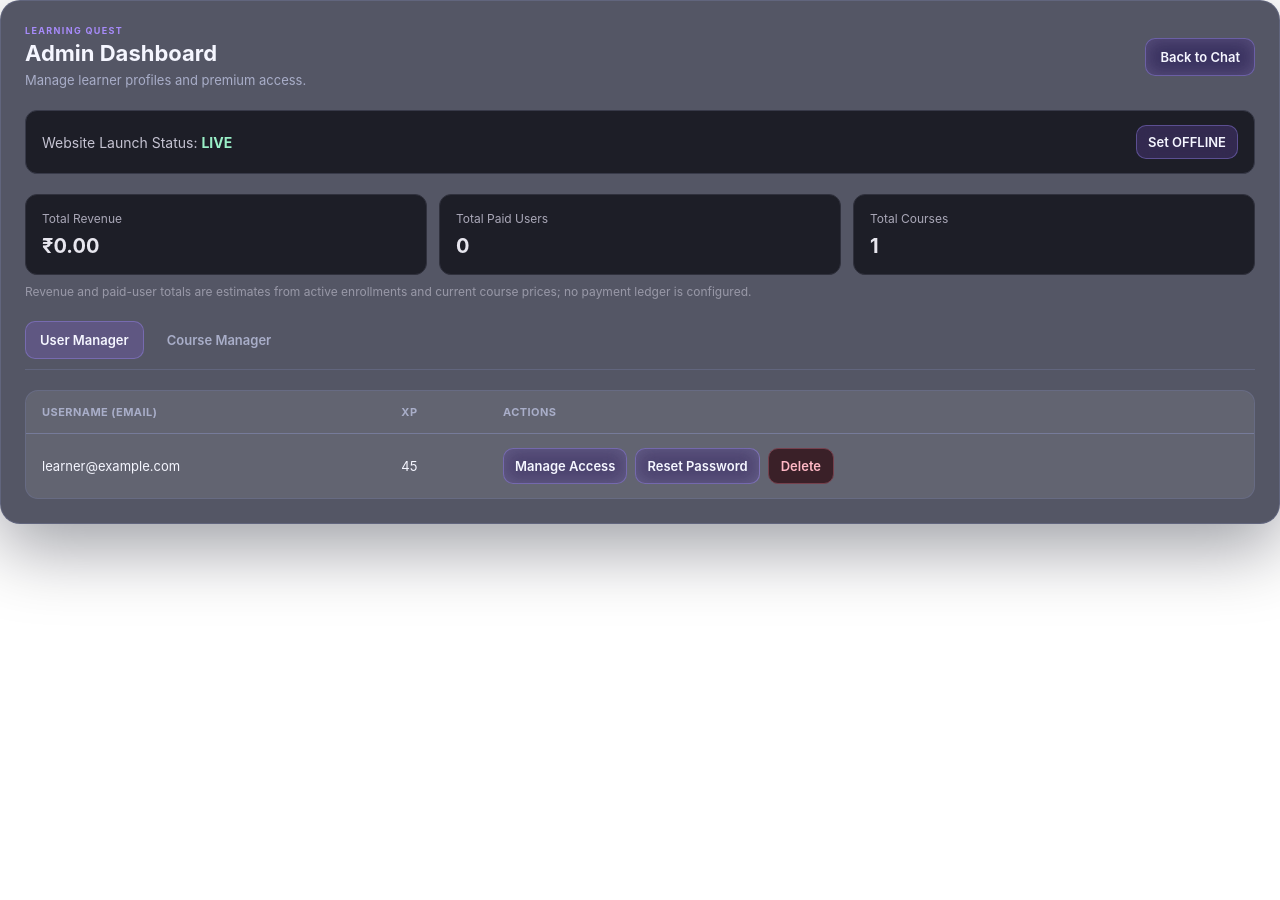
Scenario: shows an error when a course access grant fails
This screenshot has width=1280, height=900.
Click the button "Manage Access": (565, 466) [503,448,627,484]
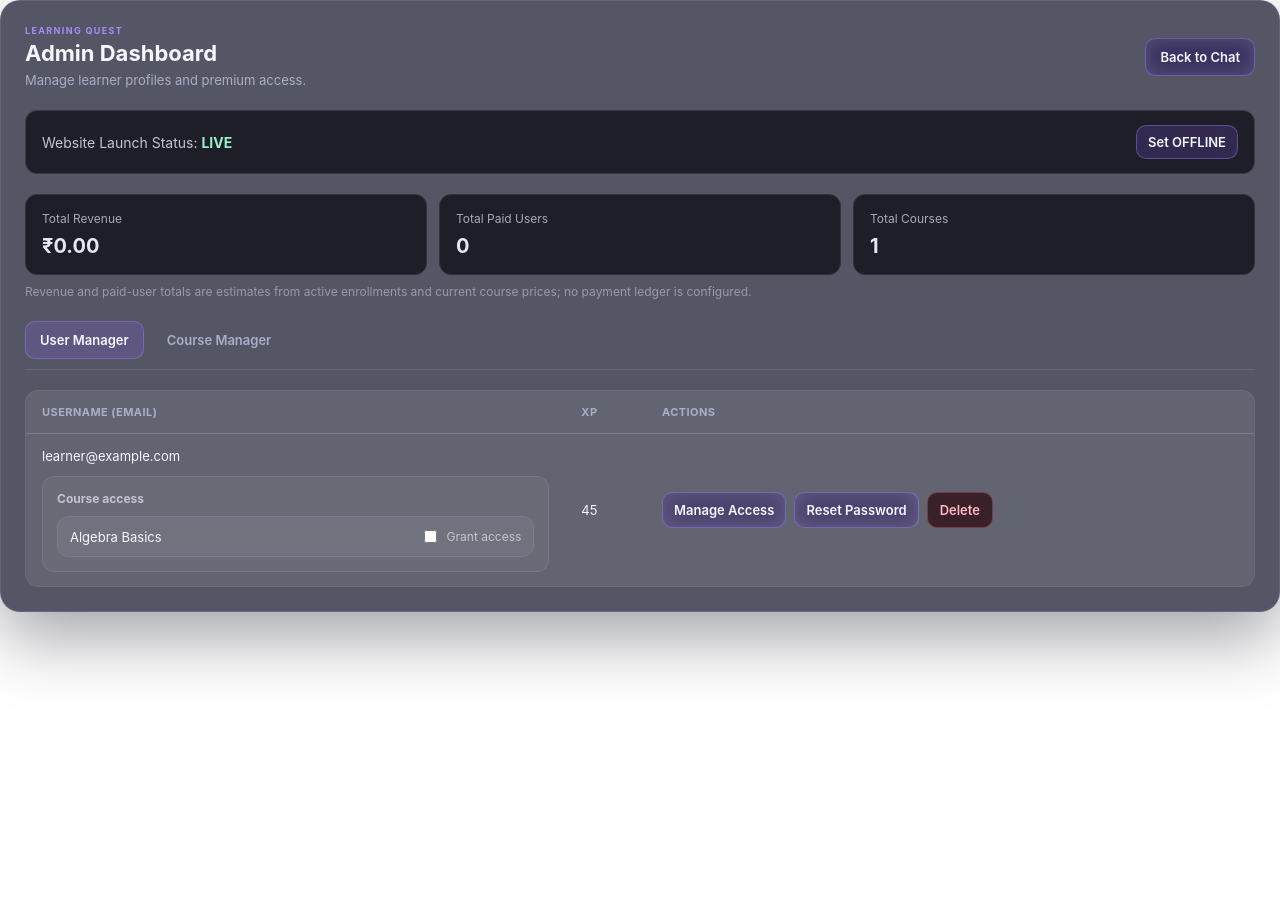
Click the checkbox named "Grant access to Algebra Basics for learner@example.com": (430, 536) [424,530,437,543]
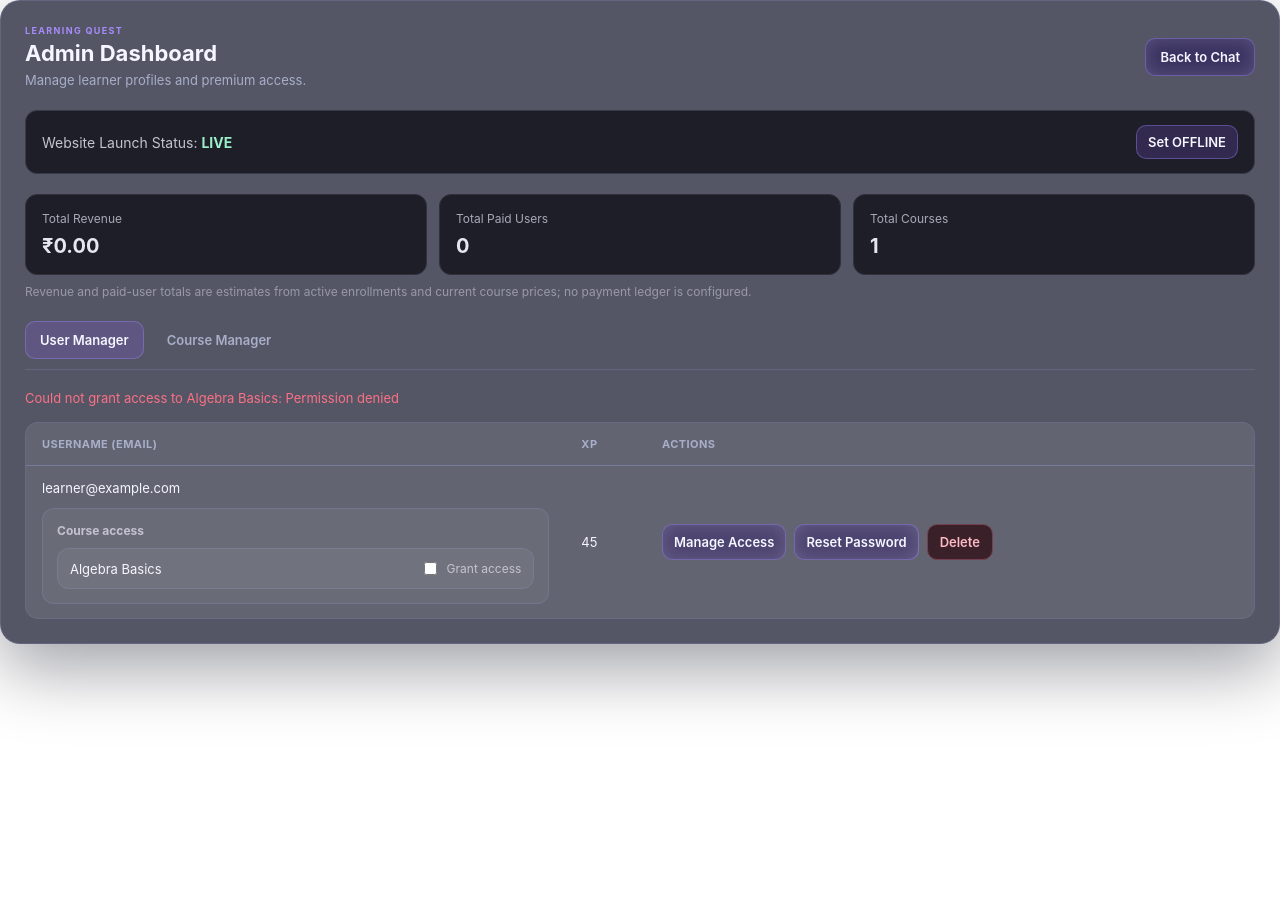
Now the message reads "Could not grant access to Algebra Basics: Permission denied", box [25,390,399,406]
